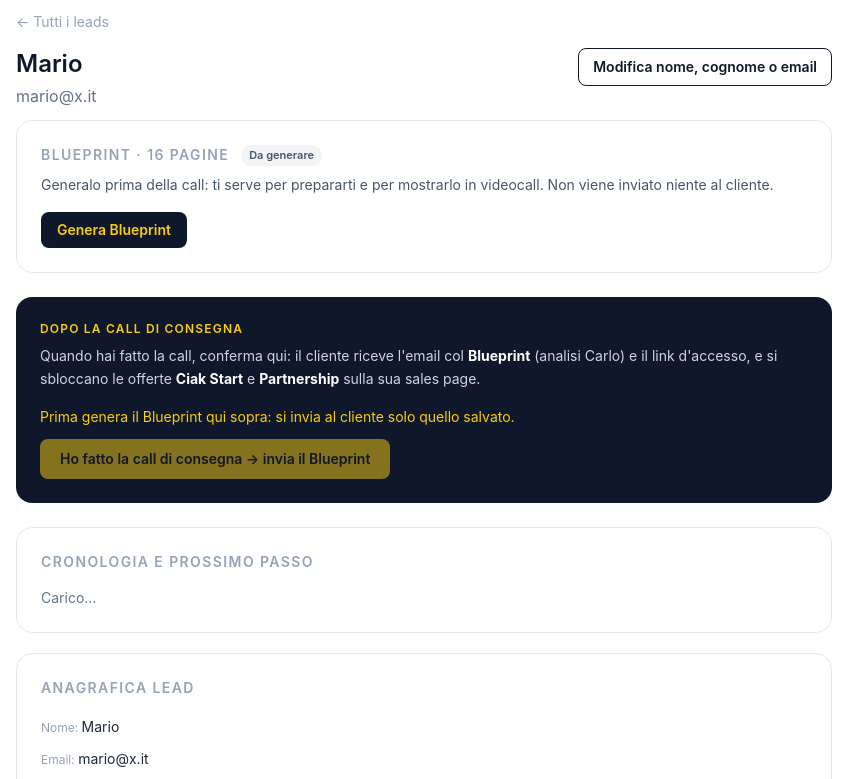
Test case: generazione negata per permesso: si legge il motivo, non 'può essere ancora in corso'
The width and height of the screenshot is (849, 779).
Click the button "Genera Blueprint": (114, 230) [41,212,187,248]
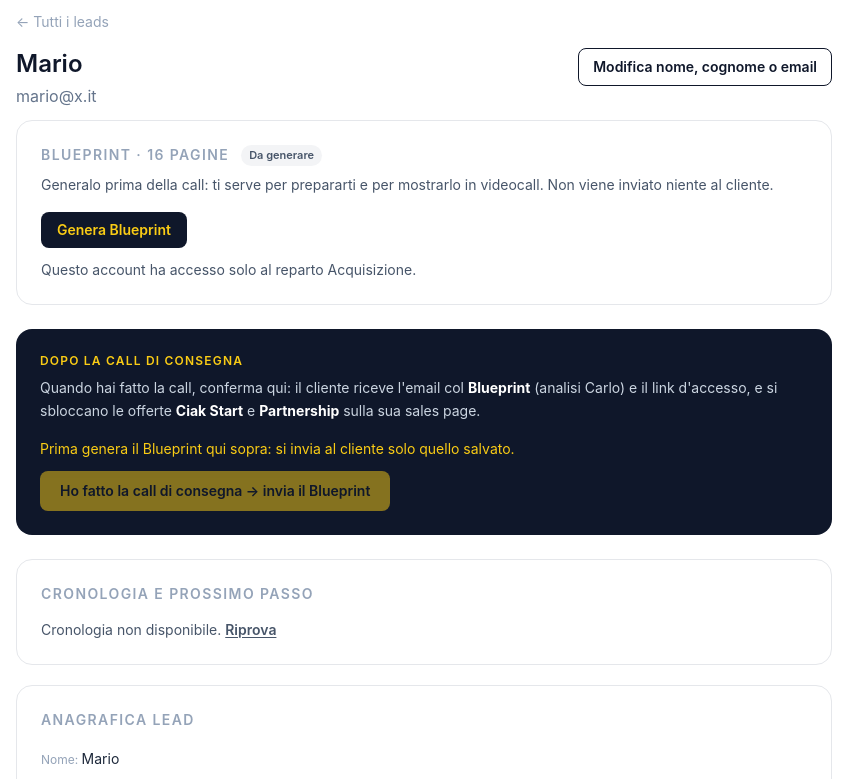
Expected: the text "Questo account ha accesso solo al reparto Acquisizione." is shown, [41,261,416,278]
